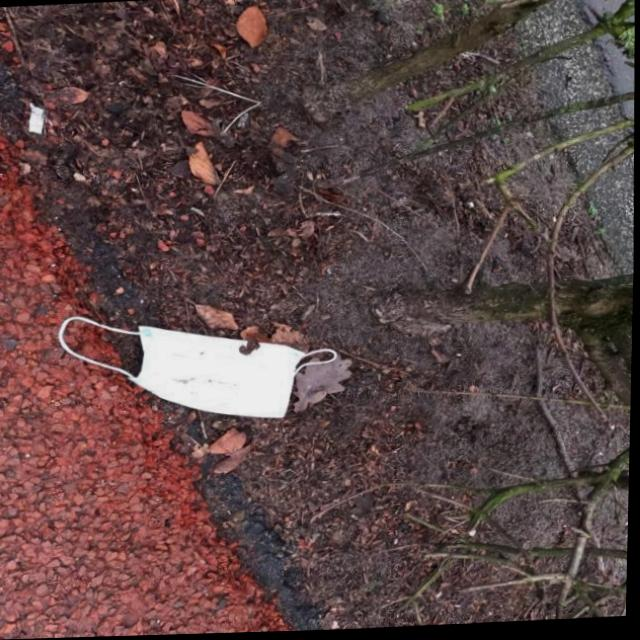Mask: (68, 301, 348, 431)
